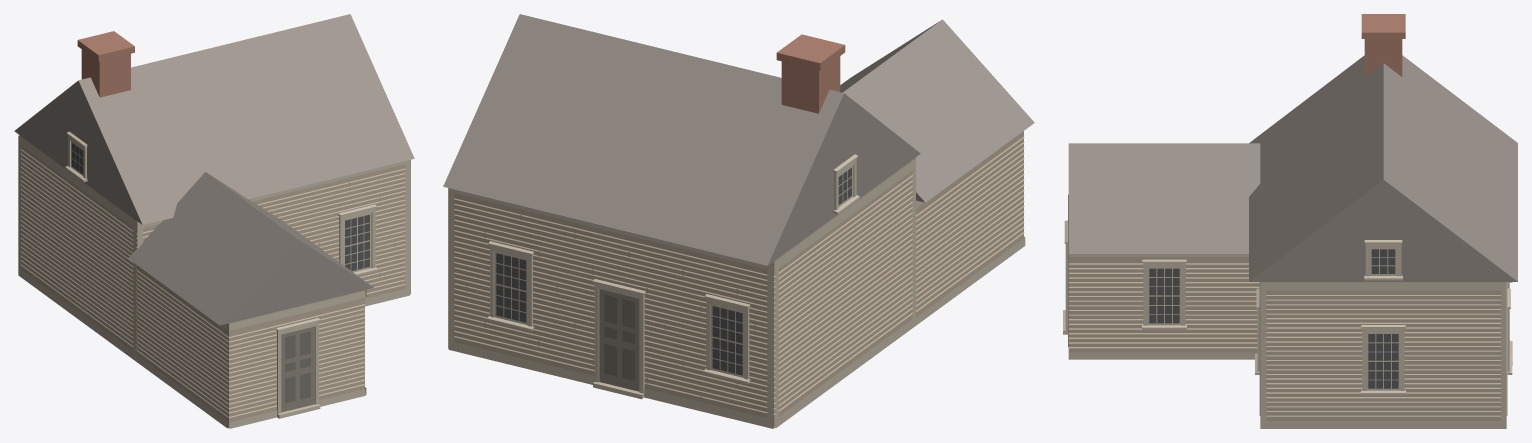
File: wabansia_doctors_house__documented_1834.glb
3 renders of one model, left to right at view 1: azimuth 30°, elevation 25°; view 2: azimuth 150°, elevation 25°; view 3: azimuth 270°, elevation 25°, orthographic. The views are drawn at different scales.
Parts seen in each view (by area): view 1: wabansia_doctors_house__documented_1834; view 2: wabansia_doctors_house__documented_1834; view 3: wabansia_doctors_house__documented_1834.
Boxes of the visible parts, x1,y1,x2,y2 form: wabansia_doctors_house__documented_1834: [14, 14, 414, 428]; wabansia_doctors_house__documented_1834: [443, 14, 1034, 428]; wabansia_doctors_house__documented_1834: [1063, 14, 1517, 428].
Bounding box in the file's own units: 7.69 × 6.89 × 10.13.
